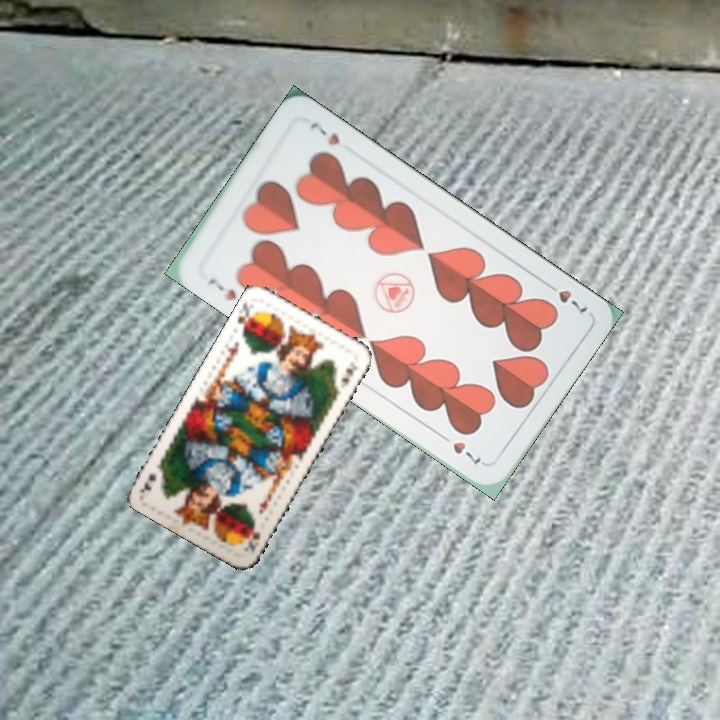H7: (539, 277, 590, 316), (204, 274, 239, 304)
SK: (240, 520, 262, 556), (233, 299, 255, 335)
